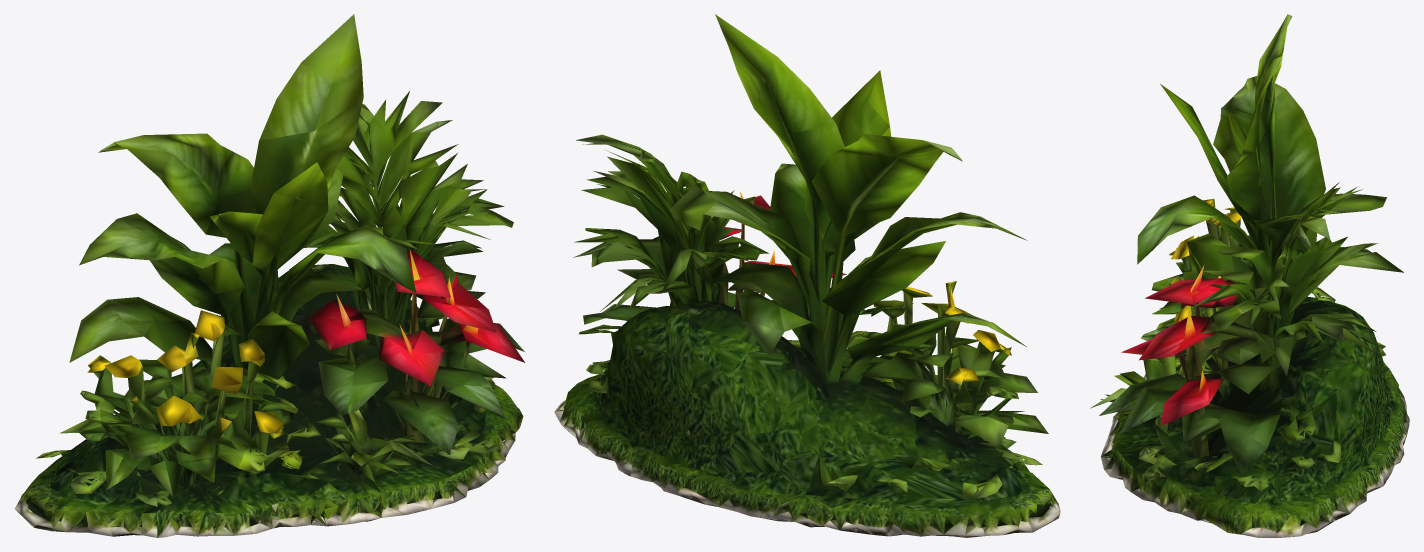
Rendered from garden.glb.
3 renders of one model, left to right at view 1: azimuth 30°, elevation 25°; view 2: azimuth 150°, elevation 25°; view 3: azimuth 270°, elevation 25°, orthographic. The views are drawn at different scales.
Visible parts, largest first — view 1: garden; view 2: garden; view 3: garden.
Part boxes in pixels (bbox=[...]): garden: bbox=[14, 14, 524, 537]; garden: bbox=[554, 14, 1060, 537]; garden: bbox=[1090, 14, 1409, 537].
Bounding box in the file's own units: 0.9729 × 0.8199 × 0.5748.
Materials: 1 (1 with a texture image).
